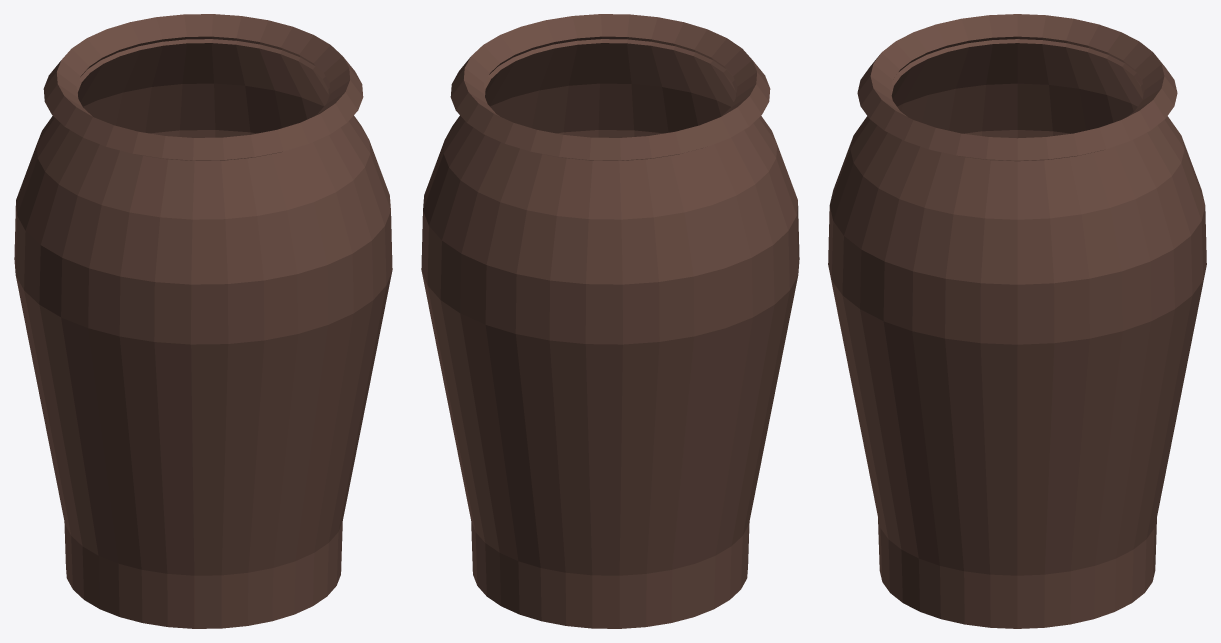
File: Pot.fbx
The picture shows the model from 3 angles, left to right: view 1: azimuth 30°, elevation 25°; view 2: azimuth 150°, elevation 25°; view 3: azimuth 270°, elevation 25°; orthographic projection.
Visible parts, largest first — view 1: Circle; view 2: Circle; view 3: Circle.
Boxes of the visible parts, x1,y1,x2,y2 form: Circle: [14, 14, 392, 628]; Circle: [421, 14, 799, 628]; Circle: [828, 14, 1206, 628].
Bounding box in the file's own units: 285 × 410 × 285.
